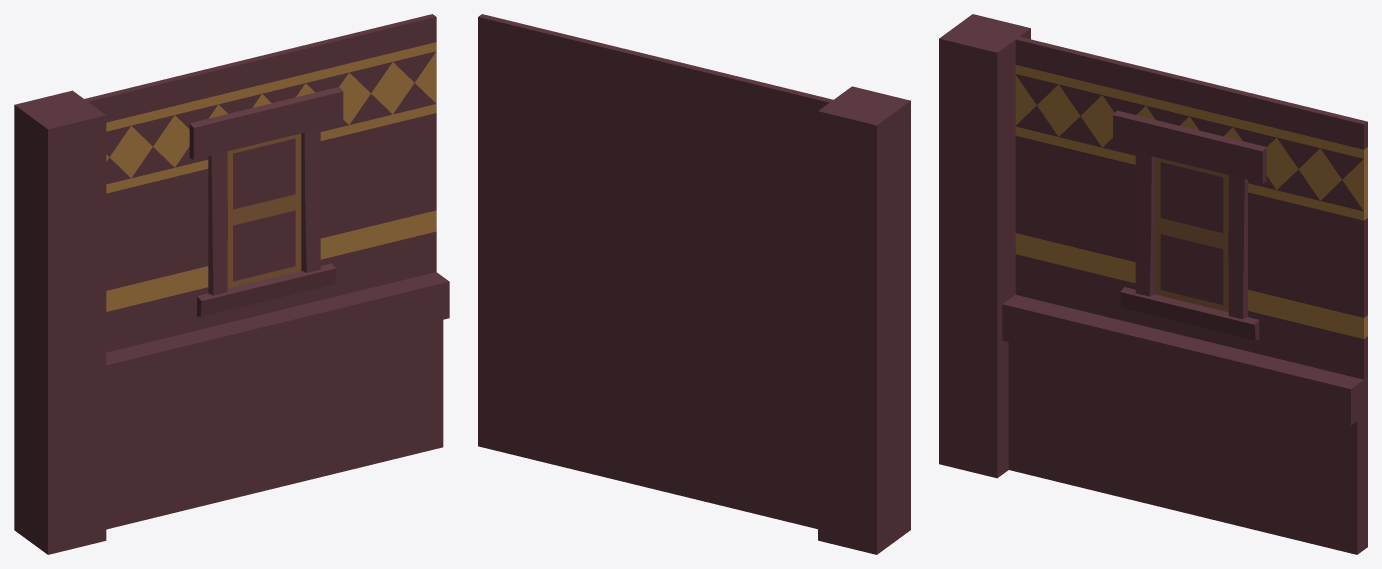
File: SM_Wall_Window_R_3x3m_Empire.fbx
The picture shows the model from 3 angles, left to right: view 1: azimuth 30°, elevation 25°; view 2: azimuth 150°, elevation 25°; view 3: azimuth 330°, elevation 25°; orthographic projection.
Visible parts, largest first — view 1: SM_Wall_Window_R_3x3m_Empire; view 2: SM_Wall_Window_R_3x3m_Empire; view 3: SM_Wall_Window_R_3x3m_Empire.
Boxes of the visible parts, x1,y1,x2,y2 form: SM_Wall_Window_R_3x3m_Empire: [14, 14, 449, 554]; SM_Wall_Window_R_3x3m_Empire: [478, 14, 910, 554]; SM_Wall_Window_R_3x3m_Empire: [939, 14, 1367, 554].
Size of the model in its own units: 3 by 3 by 0.43.
